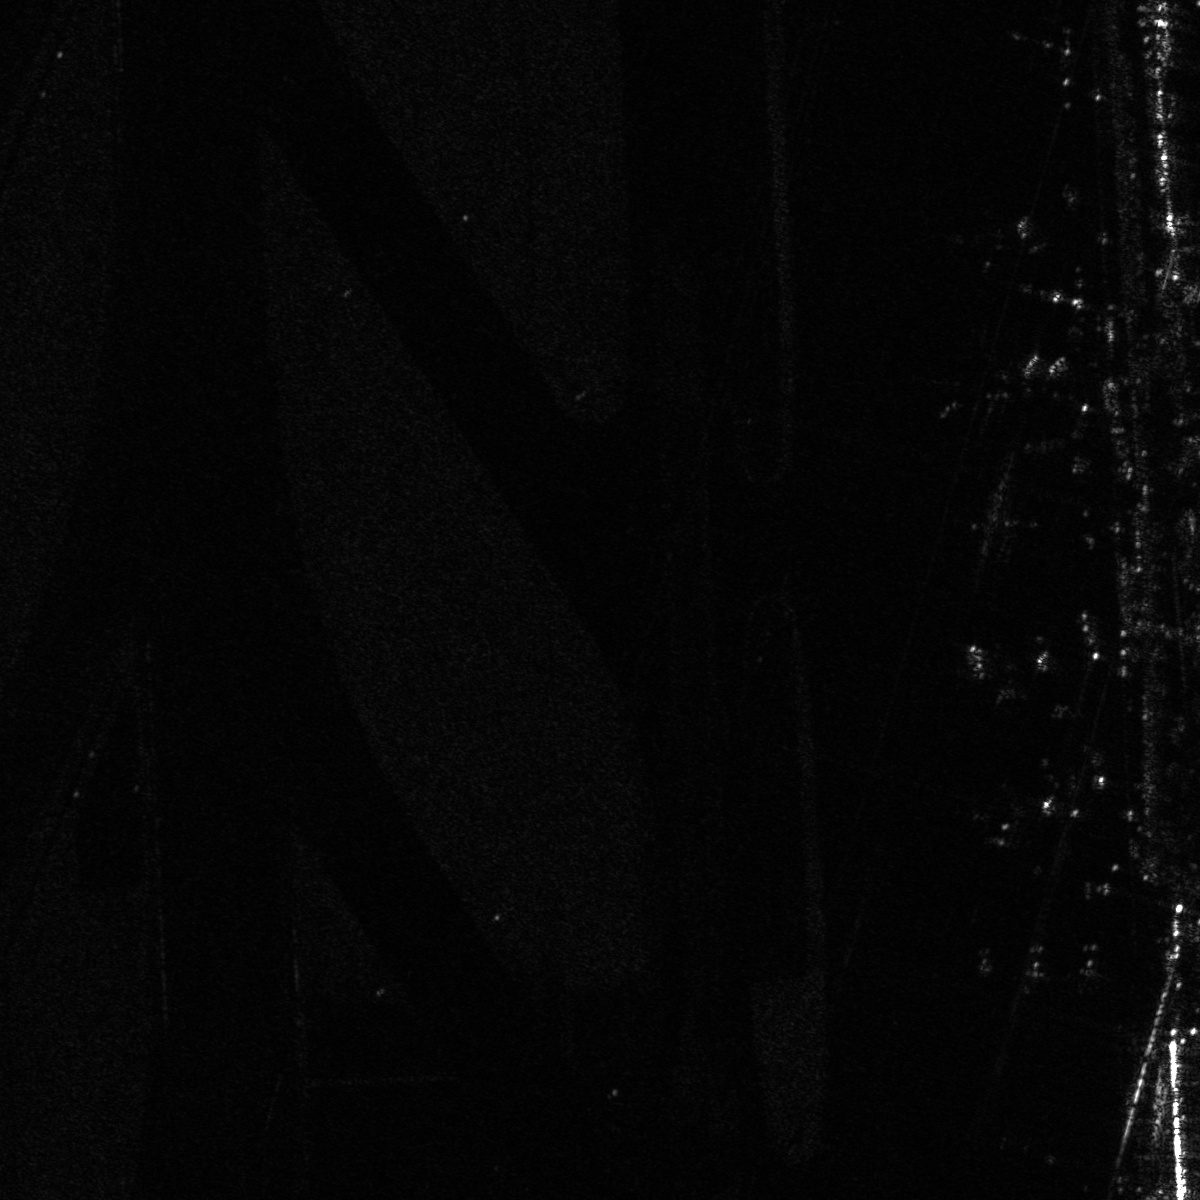ARJ21: (956, 625, 1062, 708)
other: (947, 762, 1064, 858)
